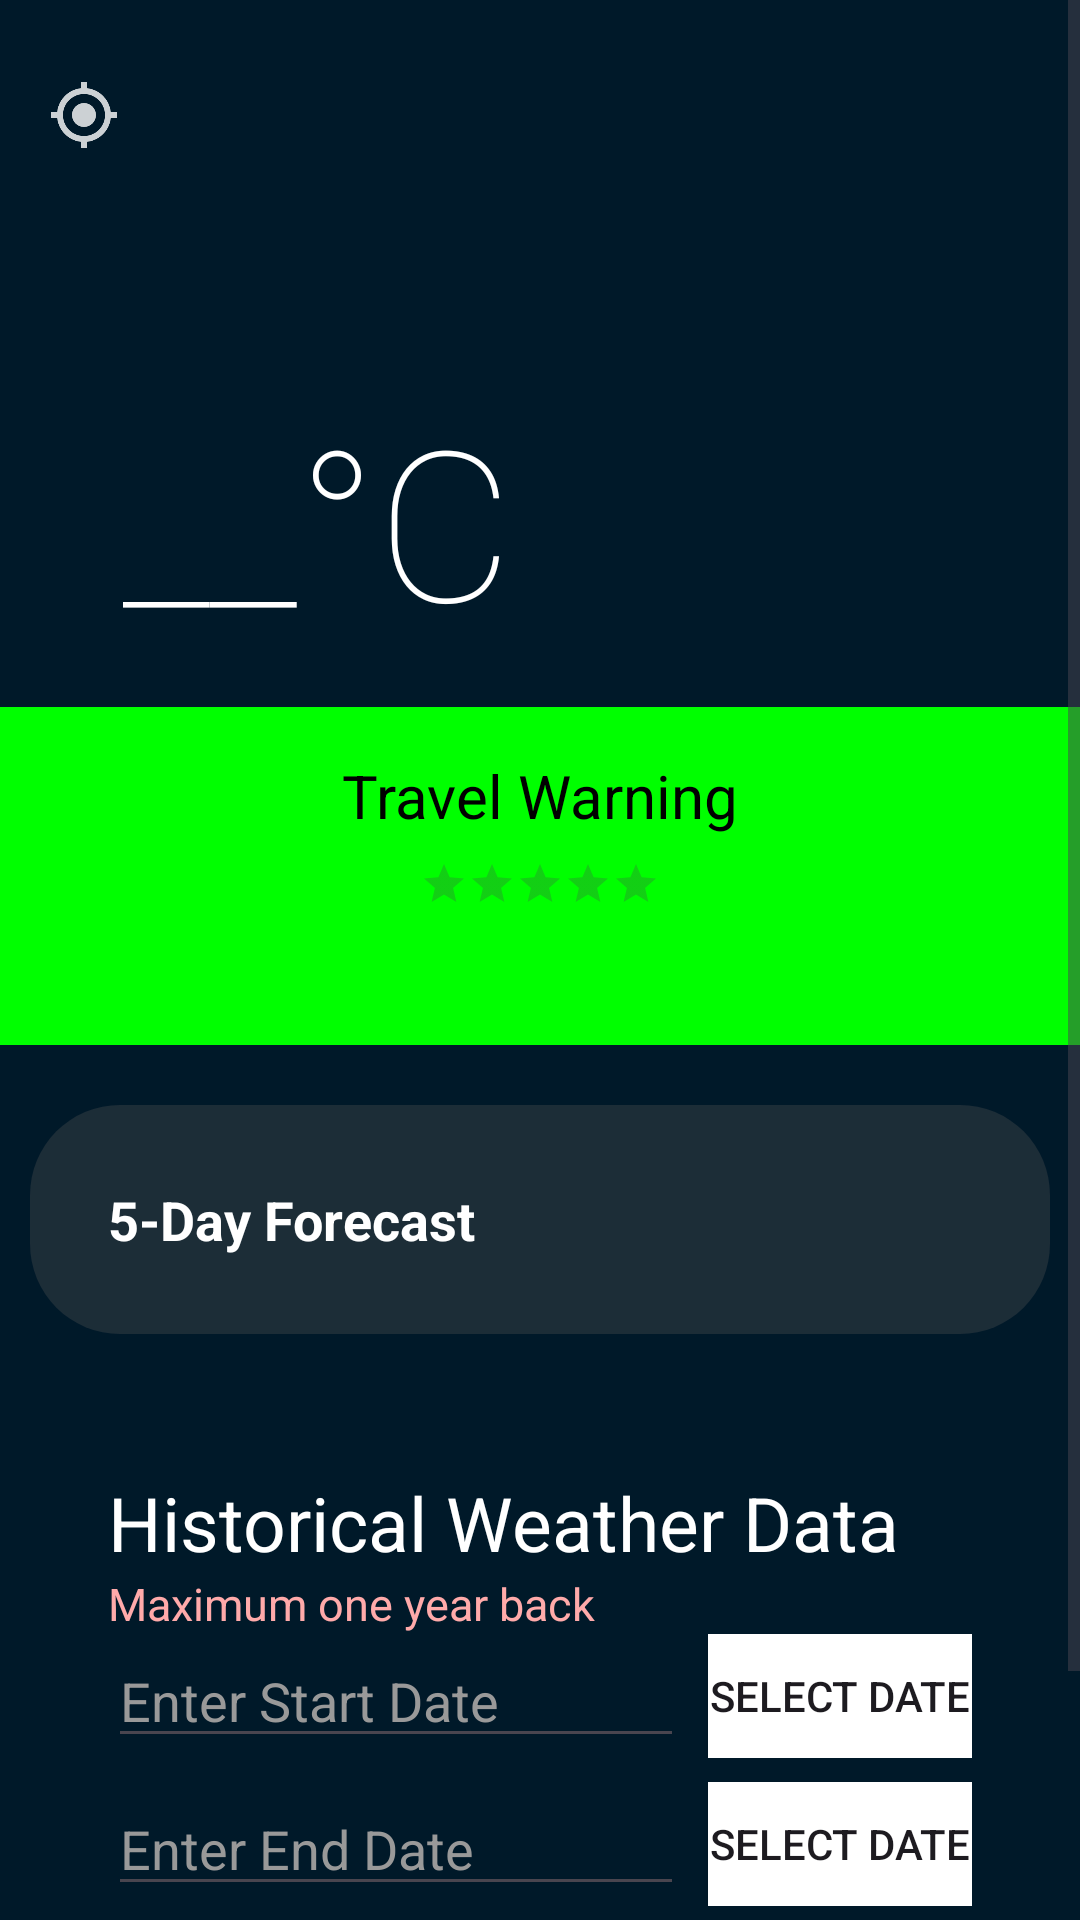

Icon click points for this 1080px x 1920px phone screenshot, format point (x, y):
Location Icon: point (84, 115)
